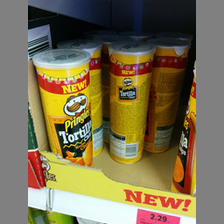chips: (33, 48, 95, 167), (107, 40, 157, 164), (144, 33, 189, 157)
